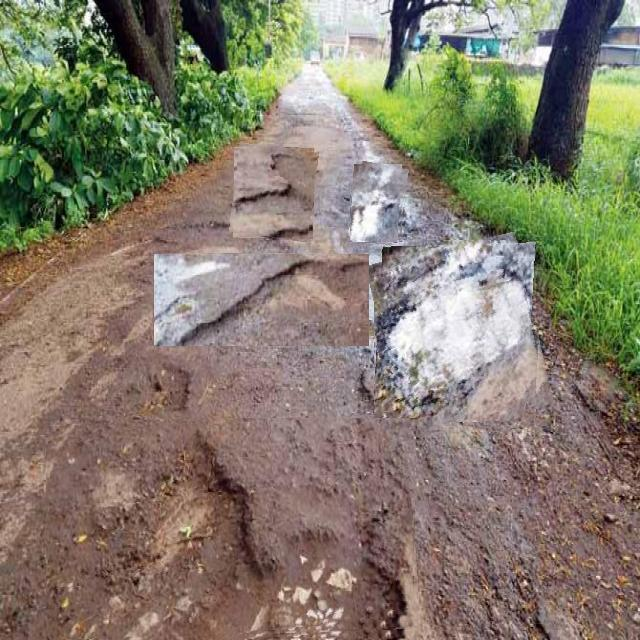Pothole: (46, 418, 417, 640), (374, 240, 545, 432), (154, 254, 369, 346), (231, 145, 317, 240), (125, 344, 208, 420), (350, 163, 406, 244)
